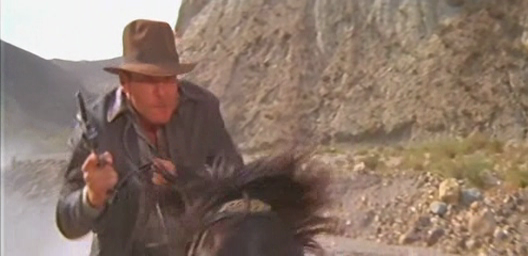face: (133, 74, 175, 121)
ms: (1, 1, 528, 256)
person: (56, 19, 247, 255)
